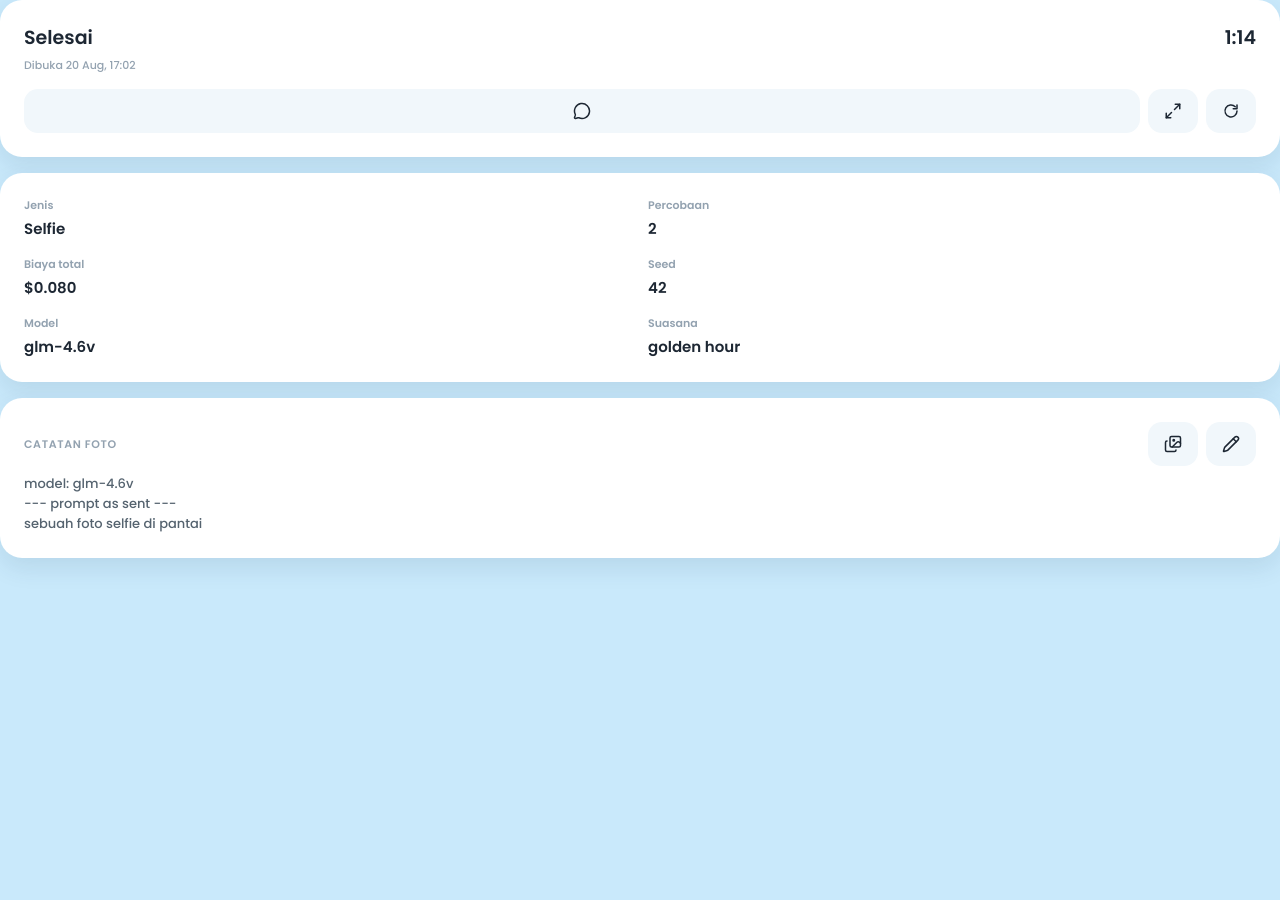
it: NinaJobDetail › a save refusal keeps the textarea open and shows the sentence
Step 1. Click the button named "Ubah prompt" → point(1231, 444), box [1206, 422, 1256, 466]
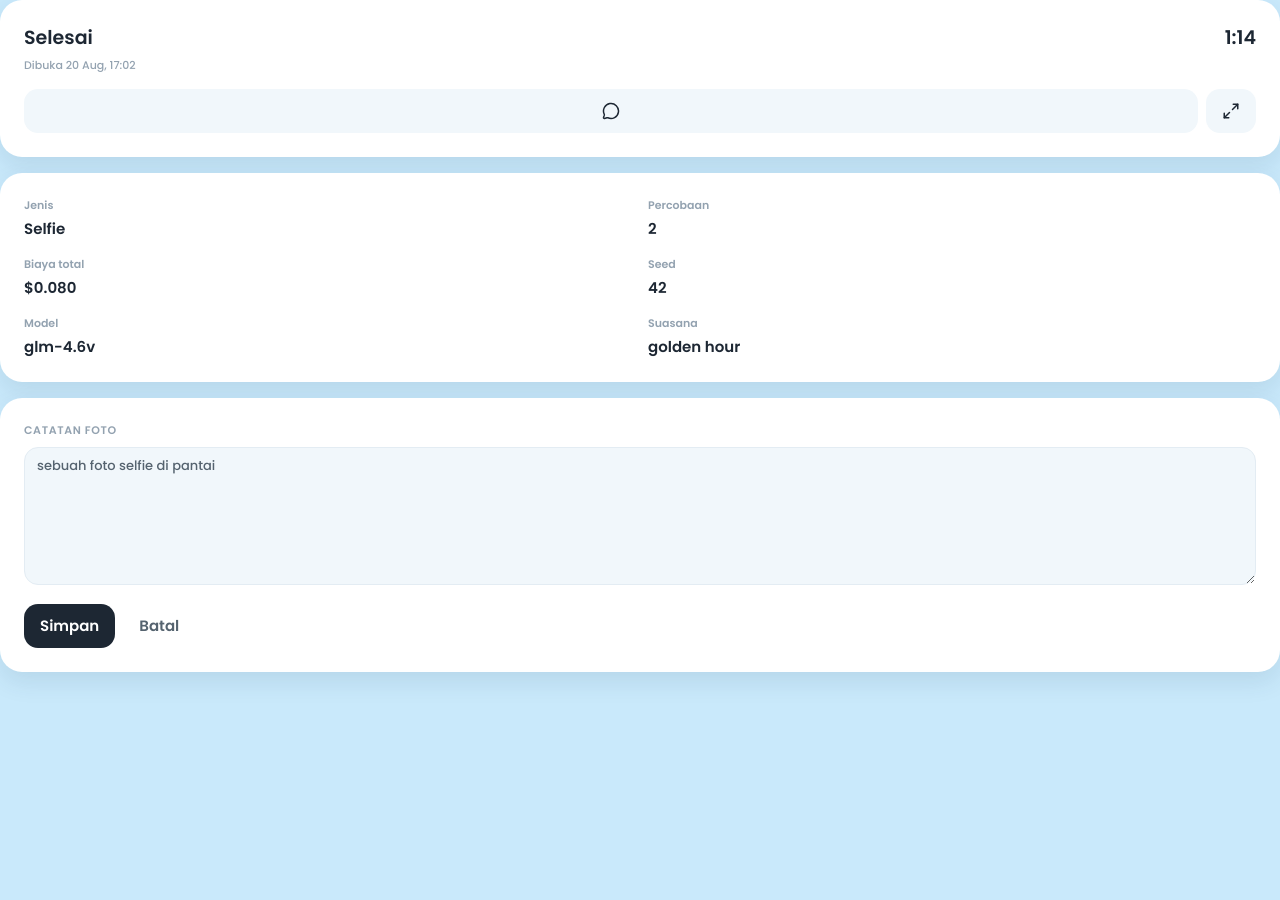
Step 2. Click the button "Simpan" → point(70, 626), box [24, 604, 115, 648]
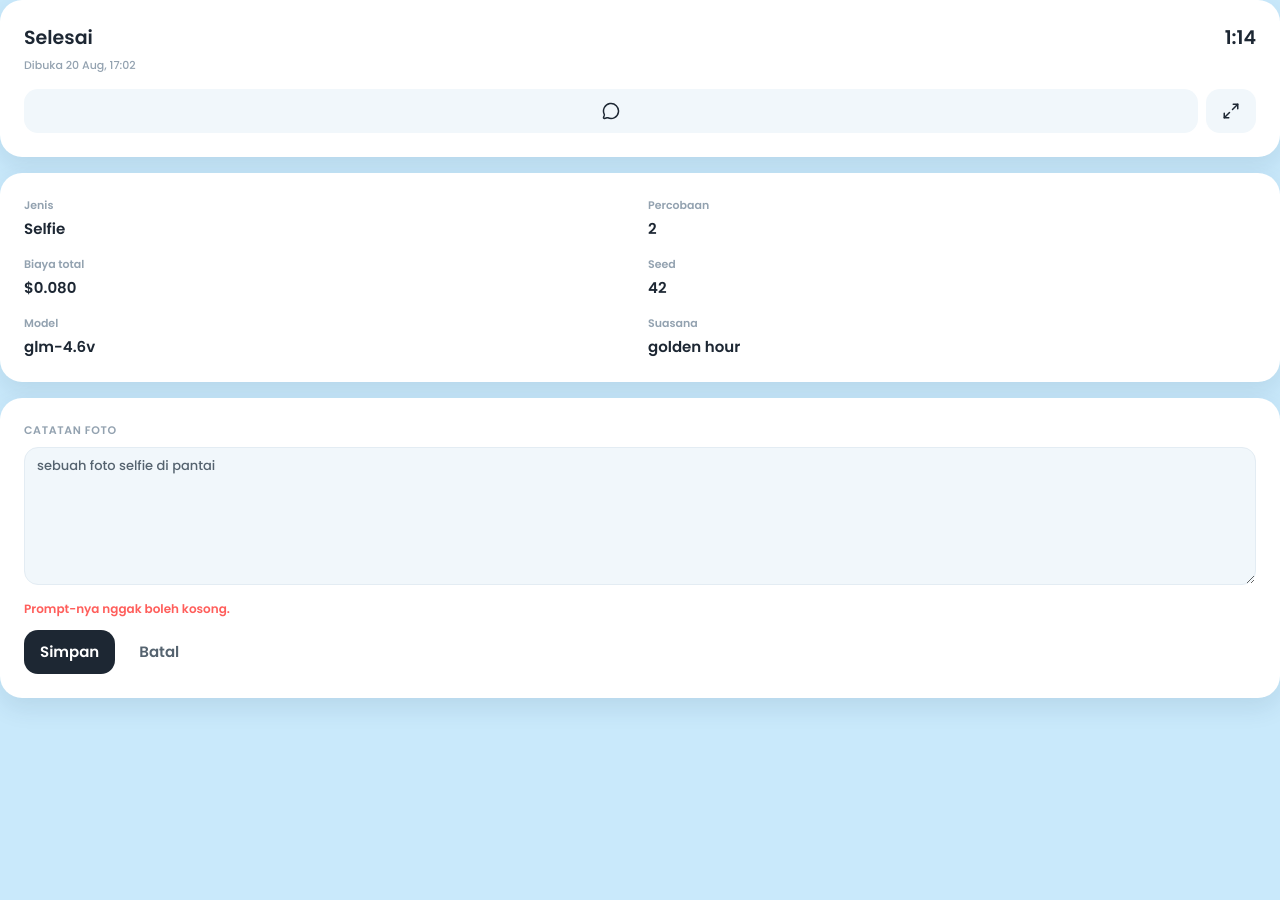
Expected: the text box named "Prompt" is shown, [24, 446, 1256, 585]
Expected: the message shows "kosong", [24, 600, 230, 617]
